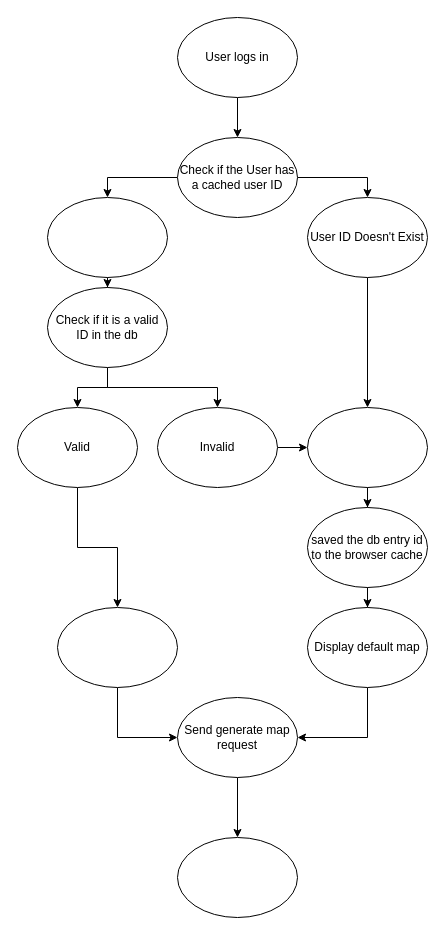
Some shapes in this 445 by 935 pixel diagram are drawn without their labels. The shapes that lost their labels are listed below. From the top down, each one's centre as x and y in pixels, then its label:
(x=107, y=237): User ID Exists
(x=367, y=447): Create a blank entry in the db
(x=117, y=647): Display saved map
(x=237, y=877): update db with parameters and update access time
